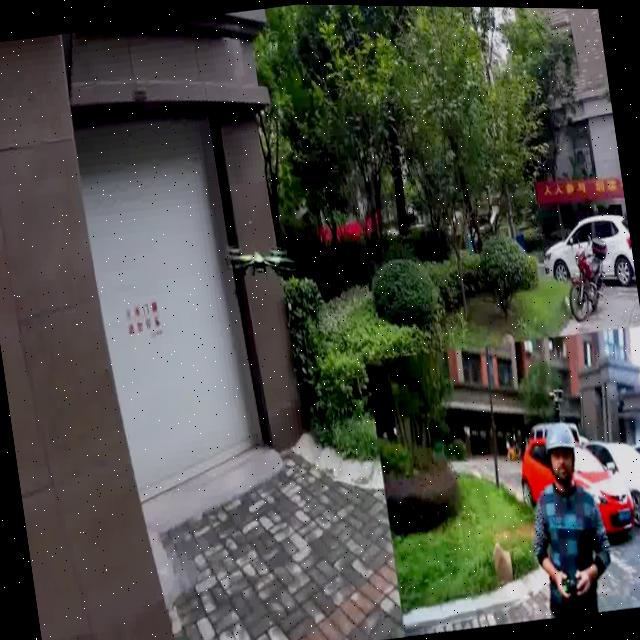drone: (221, 226, 297, 300)
